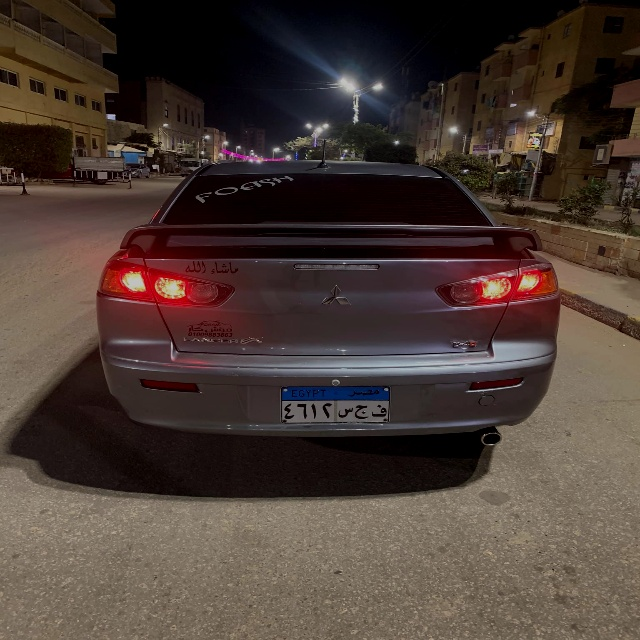License Plate: (278, 385, 393, 426)
